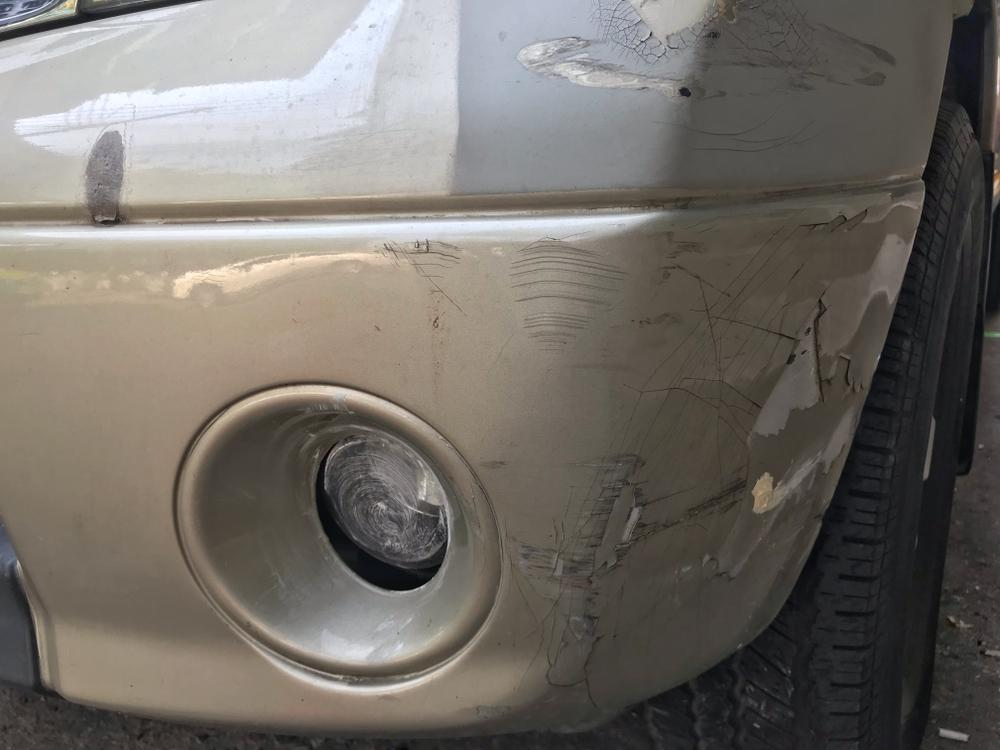dent: (443, 627, 587, 703)
scratch: (373, 203, 867, 697), (512, 0, 901, 148)
